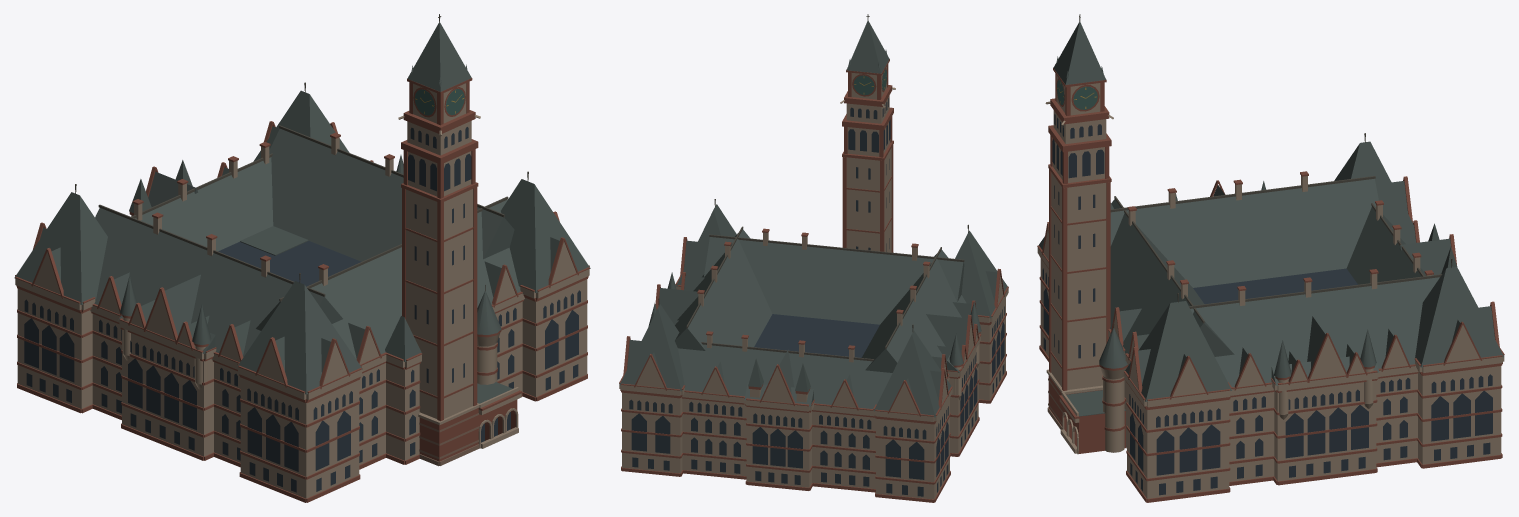
Rendered from old-city-hall-far.glb.
3 views of the same model, side by side, from view 1: azimuth 30°, elevation 25°; view 2: azimuth 150°, elevation 25°; view 3: azimuth 270°, elevation 25° (orthographic). The views are drawn at different scales.
Visible parts, largest first — view 1: old-city-hall-0-roof, old-city-hall-0-stone, old-city-hall-0-redstone, old-city-hall-0-glass, old-city-hall-0-trim, old-city-hall-0-band, old-city-hall-0-glow; view 2: old-city-hall-0-roof, old-city-hall-0-stone, old-city-hall-0-glass, old-city-hall-0-redstone, old-city-hall-0-trim; view 3: old-city-hall-0-roof, old-city-hall-0-stone, old-city-hall-0-redstone, old-city-hall-0-glass, old-city-hall-0-trim, old-city-hall-0-glow.
Part boxes in pixels (box(x1,y1,x2,y2)): old-city-hall-0-roof: box(14, 22, 590, 403); old-city-hall-0-stone: box(15, 83, 589, 498); old-city-hall-0-redstone: box(15, 78, 589, 502); old-city-hall-0-glass: box(24, 127, 580, 492); old-city-hall-0-trim: box(75, 14, 528, 301); old-city-hall-0-band: box(419, 413, 479, 466); old-city-hall-0-glow: box(414, 89, 464, 115); old-city-hall-0-roof: box(619, 20, 1007, 417); old-city-hall-0-stone: box(619, 66, 1008, 499); old-city-hall-0-glass: box(629, 98, 1004, 496); old-city-hall-0-redstone: box(619, 59, 1008, 502); old-city-hall-0-trim: box(658, 14, 968, 361); old-city-hall-0-roof: box(1038, 22, 1503, 416); old-city-hall-0-stone: box(1037, 75, 1504, 498); old-city-hall-0-redstone: box(1037, 68, 1504, 502); old-city-hall-0-glass: box(1042, 114, 1492, 495); old-city-hall-0-trim: box(1079, 14, 1452, 327); old-city-hall-0-glow: box(1057, 80, 1097, 109).
Bounding box in the file's own units: 110 × 104 × 108.
